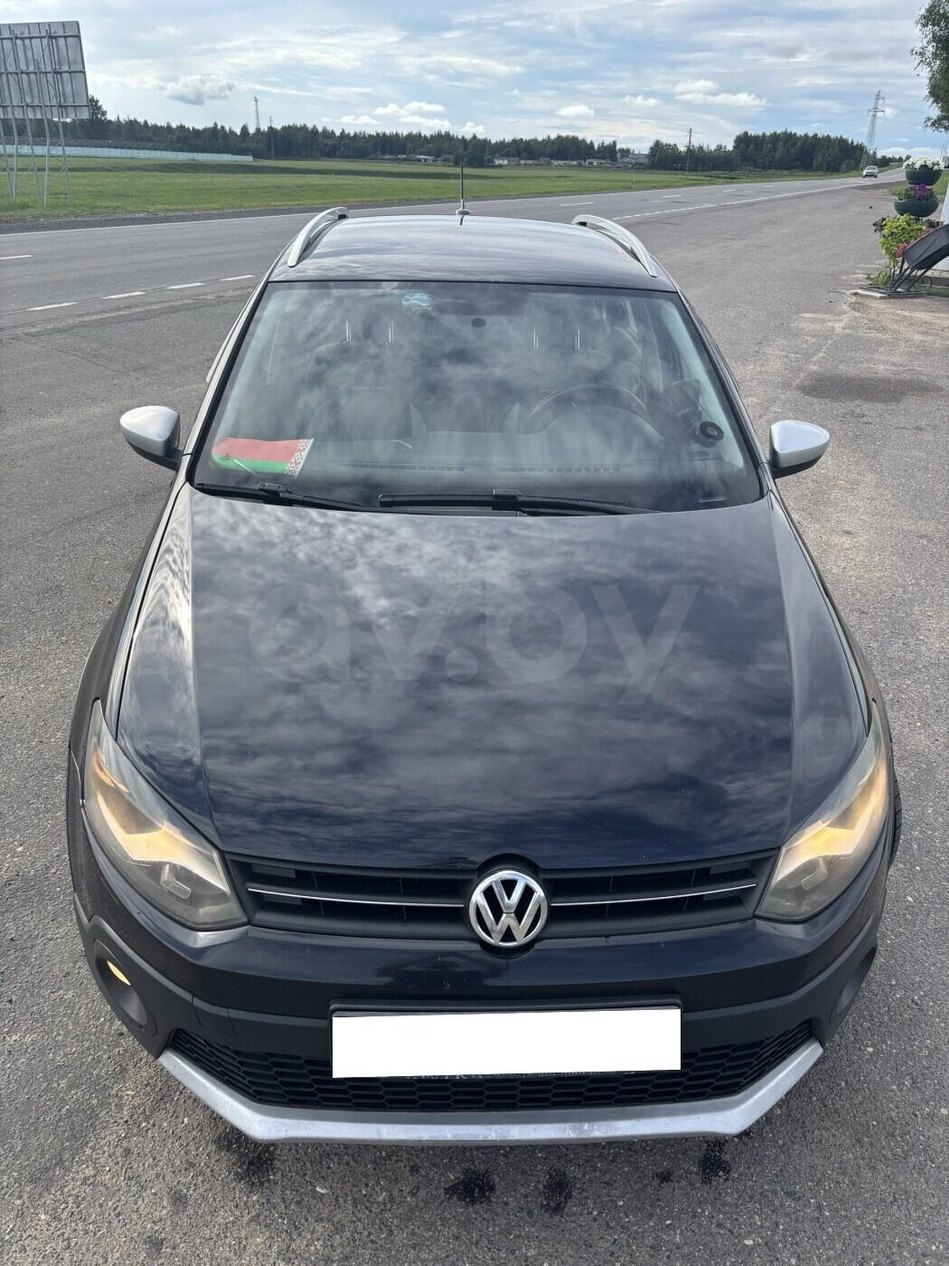Polo_2009-2015: (65, 173, 877, 1171)
